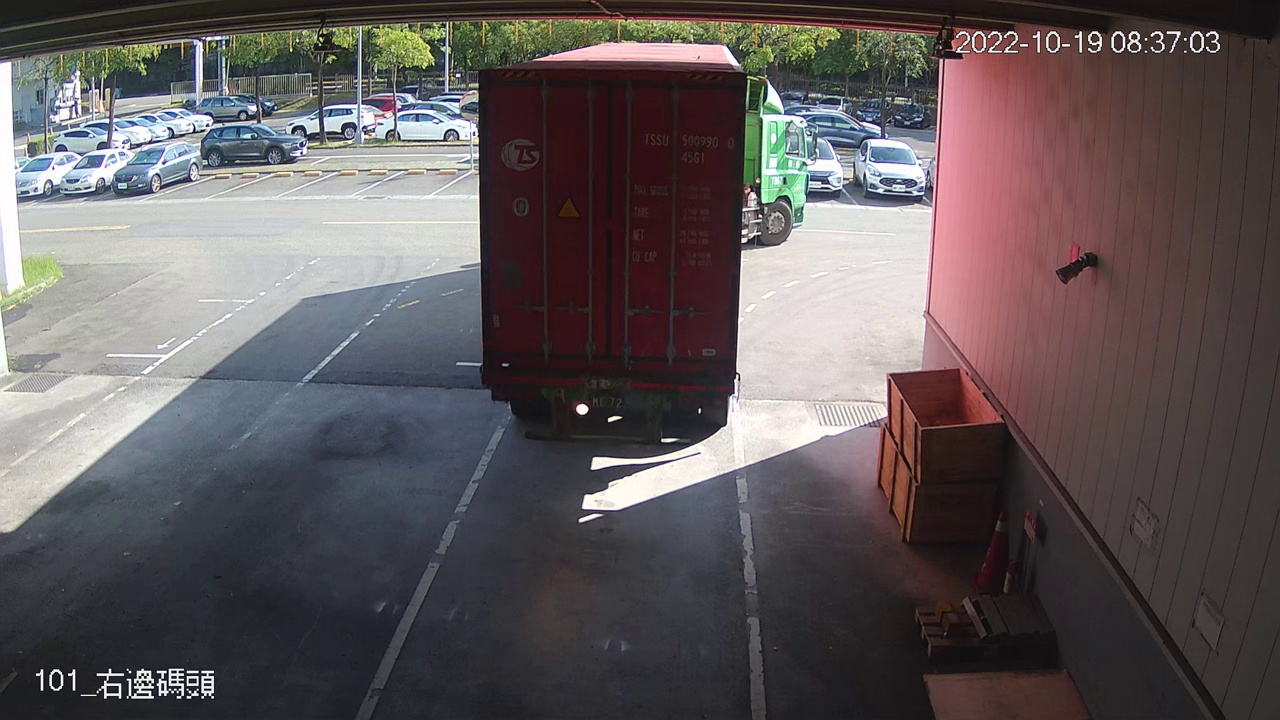container: (641, 124, 738, 170)
